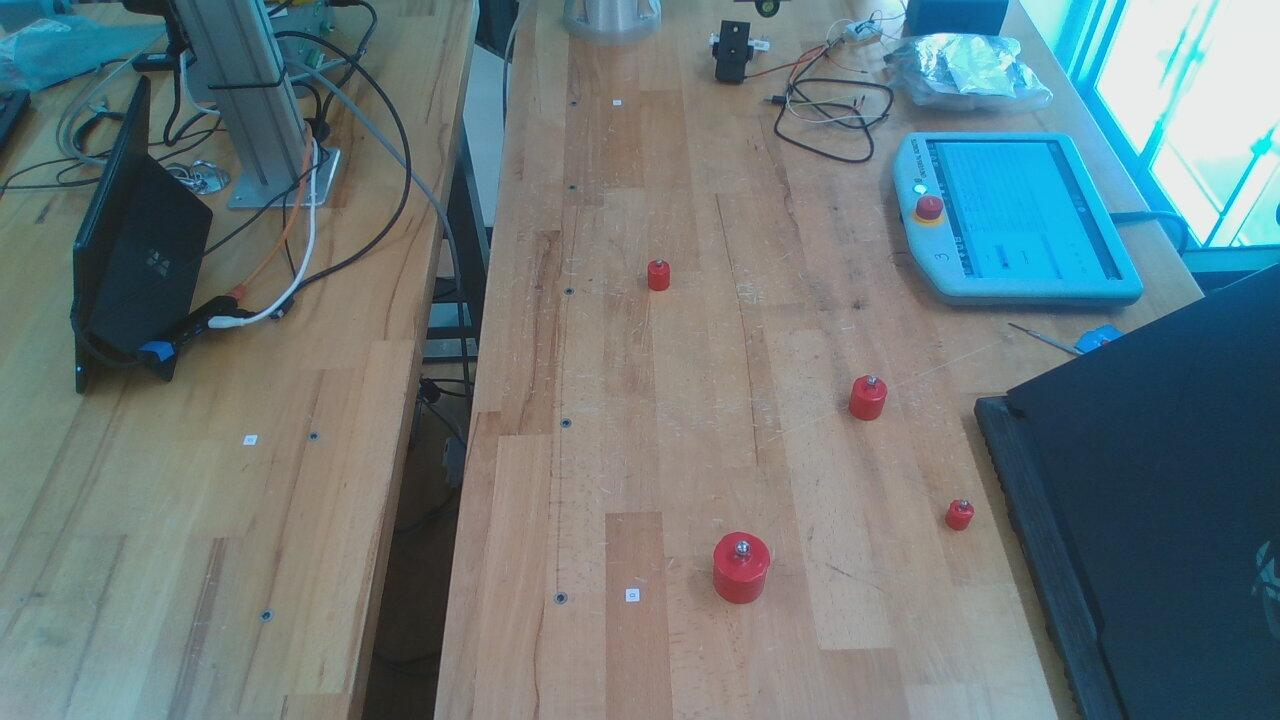red_object: (709, 529, 771, 609), (851, 373, 887, 424), (944, 497, 976, 532), (646, 256, 672, 295)
